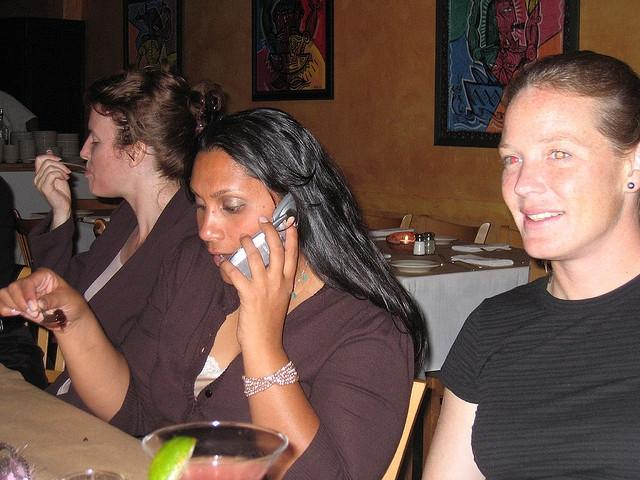lime: (148, 435, 197, 480)
